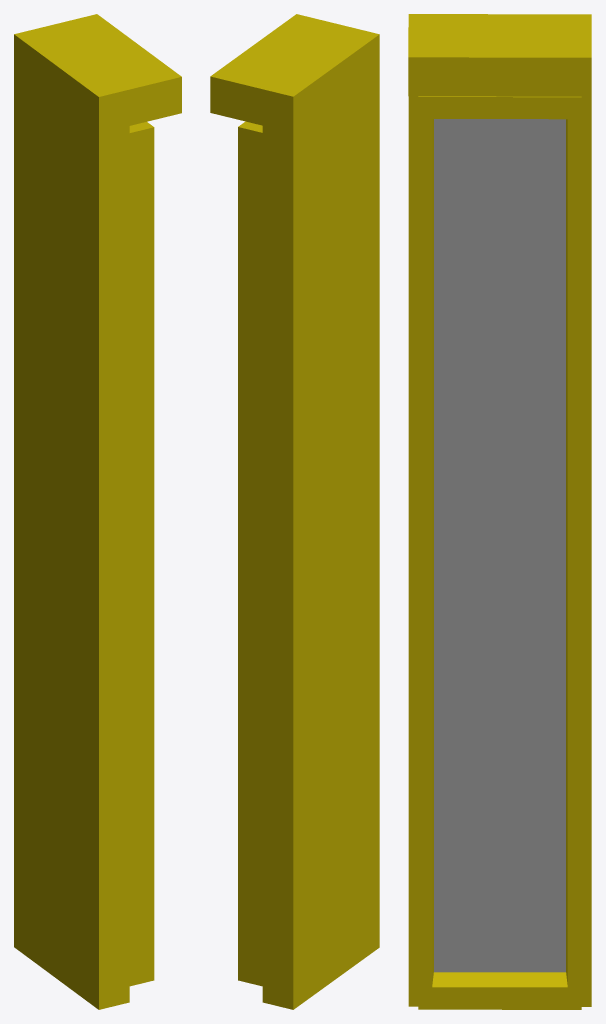
The model's file is Fenster_Lang.fbx.
3 renders of one model, left to right at view 1: azimuth 30°, elevation 25°; view 2: azimuth 150°, elevation 25°; view 3: azimuth 270°, elevation 25°, orthographic. The views are drawn at different scales.
Visible parts, largest first — view 1: Fenster_Lang; view 2: Fenster_Lang; view 3: Fenster_Lang.
Boxes of the visible parts, x1,y1,x2,y2 form: Fenster_Lang: (14,14,181,1009); Fenster_Lang: (210,14,379,1009); Fenster_Lang: (408,14,591,1009).
Size of the model in its own units: 17.2 by 179 by 30.41.
